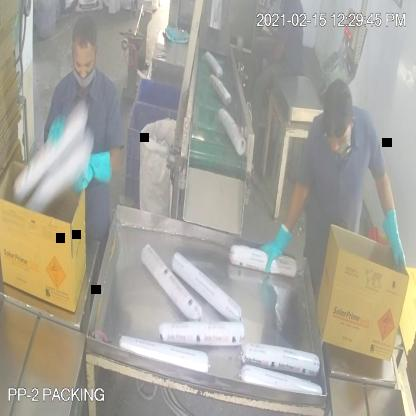glove: (374, 178, 414, 276), (254, 206, 298, 294), (68, 142, 127, 196)
